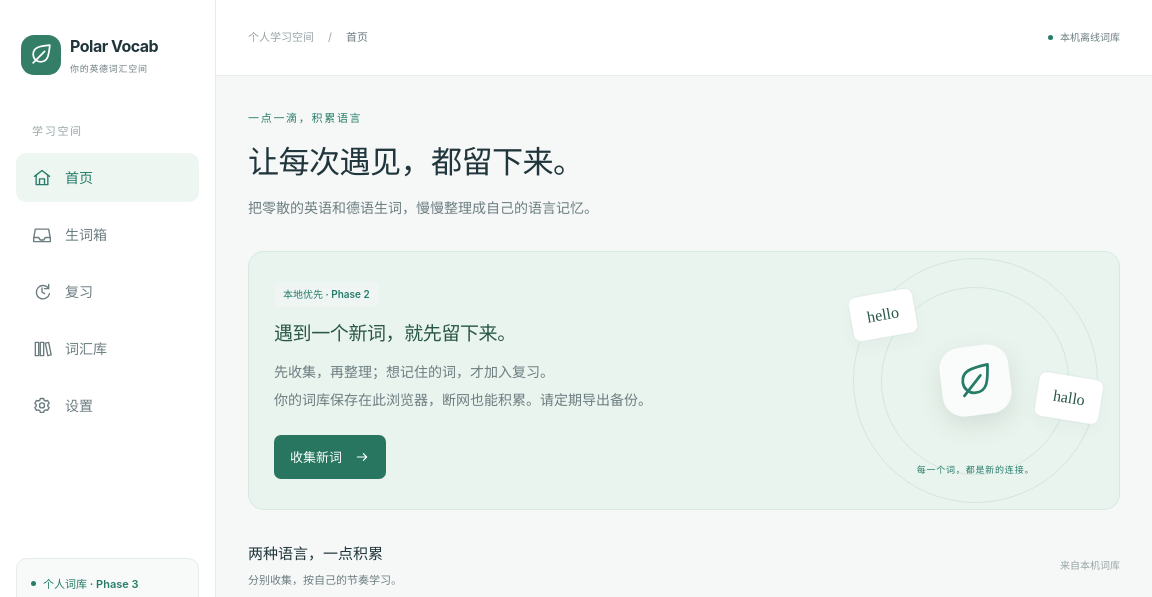
Test: 应用导航与页面骨架 › 通过主导航访问五个页面，并标记当前页
The image size is (1152, 597).
Check: the heading "让每次遇见，都留下来。" is shown, box [248,142,583,180]
Click the link "生词箱": click(70, 234) [32,224,107,244]
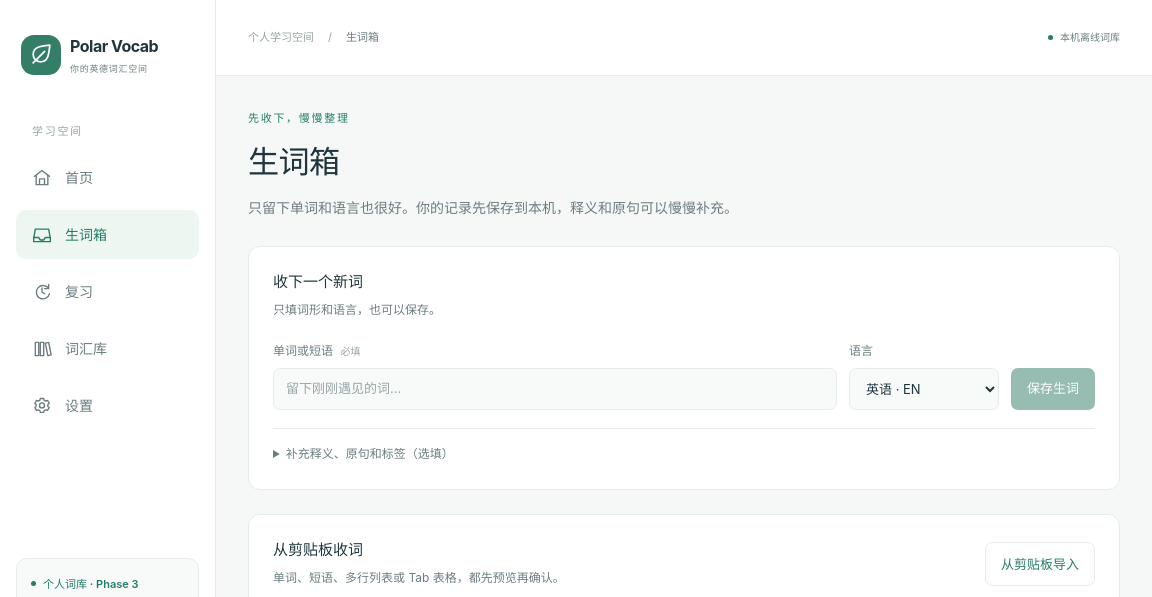
Check: the heading "生词箱" is shown, box [248,142,340,180]
Click the link "复习": click(62, 292) [32,282,93,302]
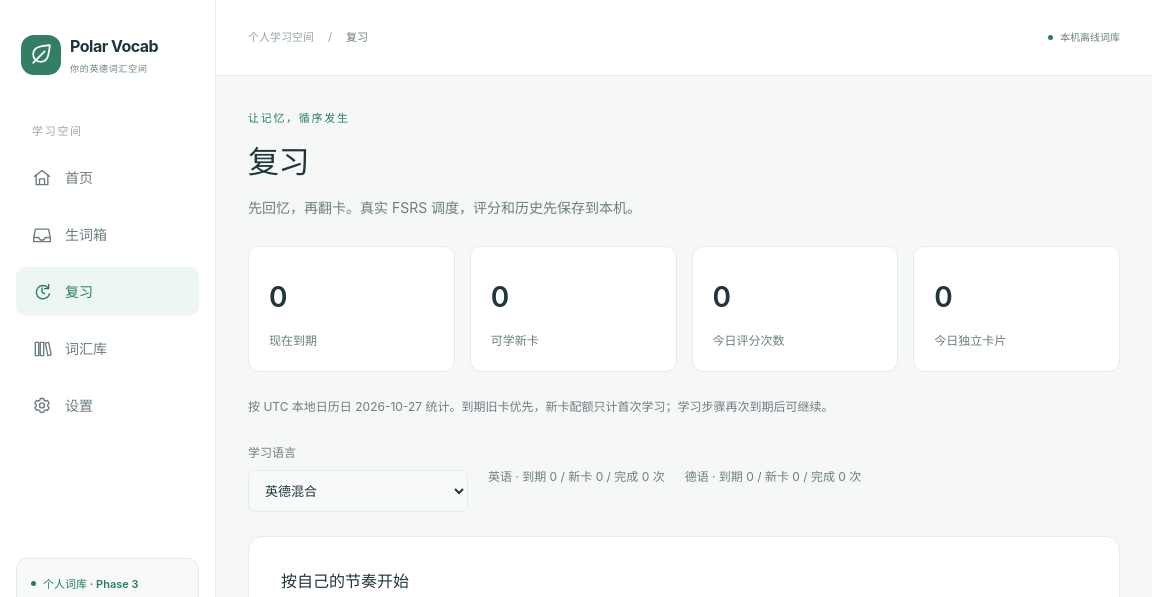
Check: the heading "复习" is shown, box [248,142,309,180]
Click the link "词汇库": click(70, 348) [32,338,107,358]
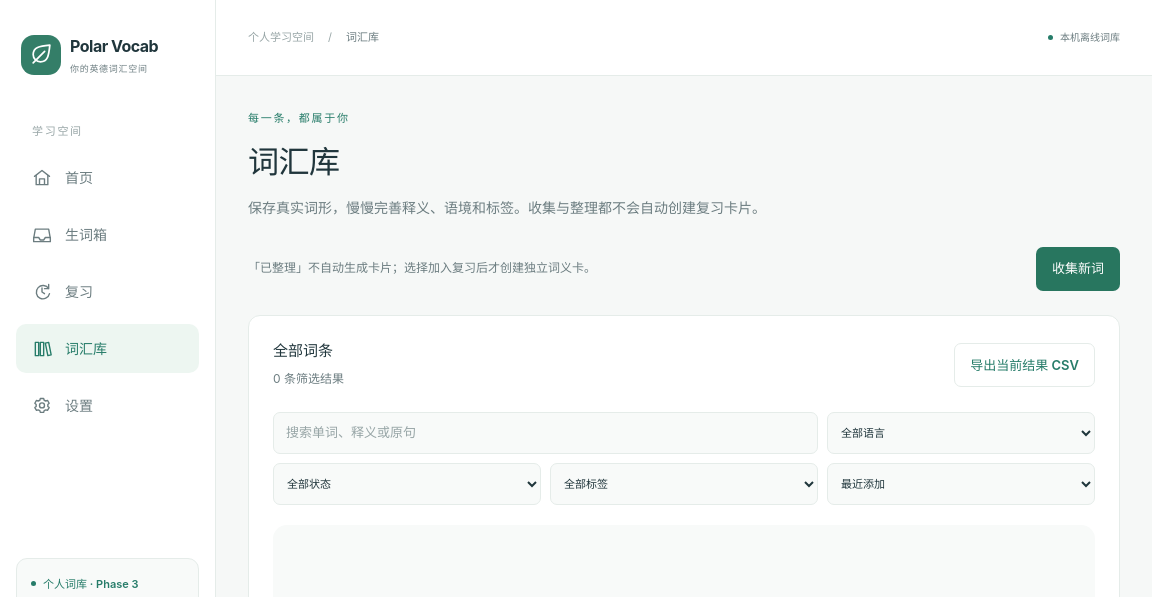
Check: the heading "词汇库" is shown, box [248,142,340,180]
Click the link "设置": click(62, 406) [32,396,93,416]
(page scrolled)
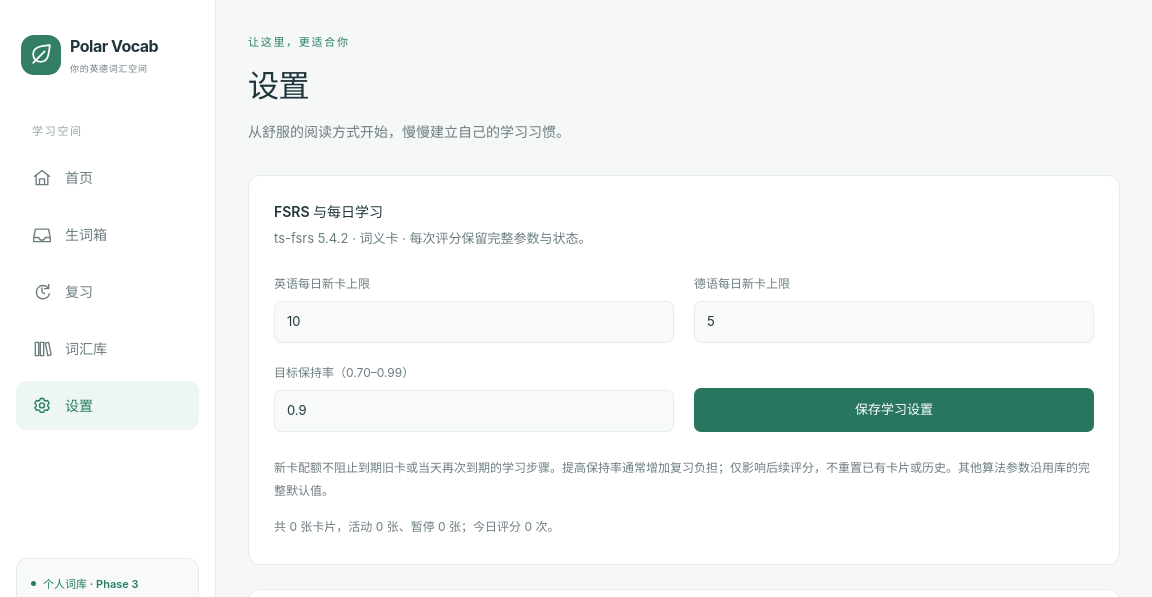
Check: the heading "设置" is shown, box [248,66,309,104]
Click the link "首页": click(62, 178) [32,168,93,188]
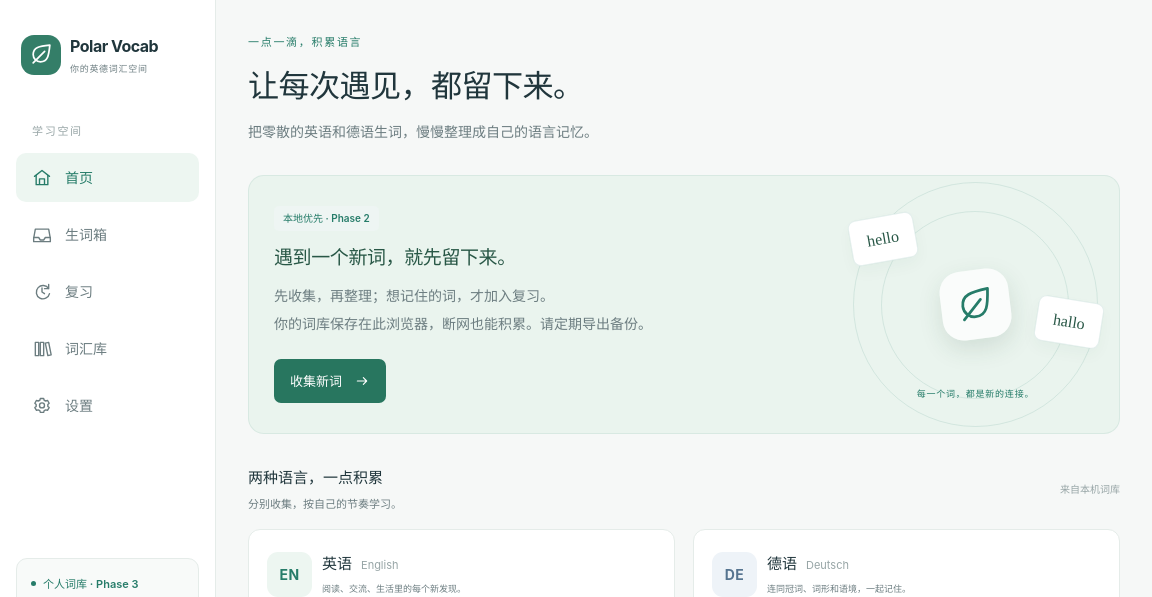
Check: the heading "让每次遇见，都留下来。" is shown, box [248,66,583,104]
